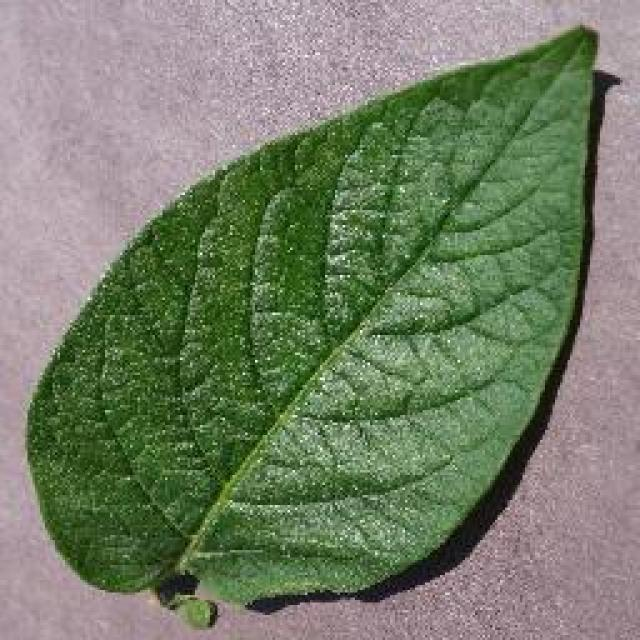healthy: (20, 20, 615, 620)
